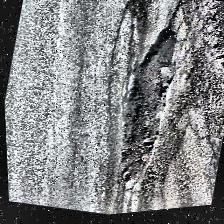pothole: (95, 16, 197, 196)
